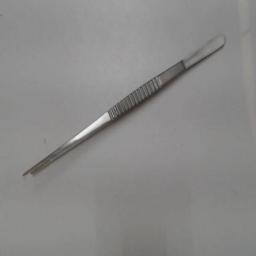DeBakey Dissector: (19, 15, 241, 187)
